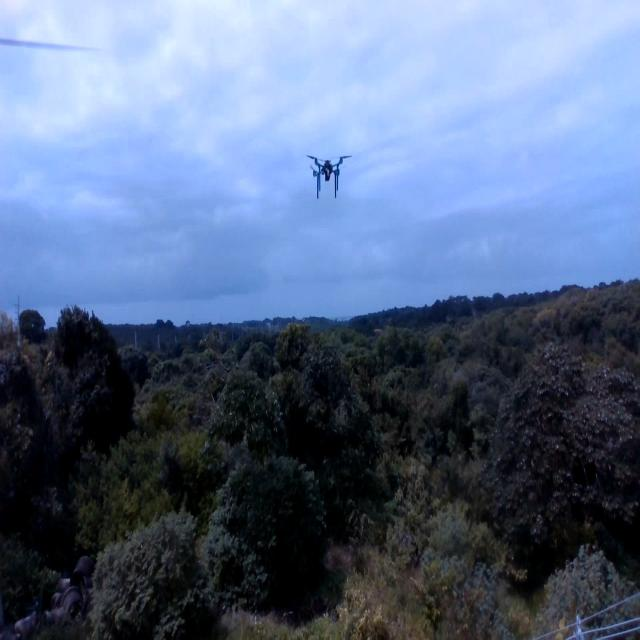-uav-: (299, 144, 361, 212)
